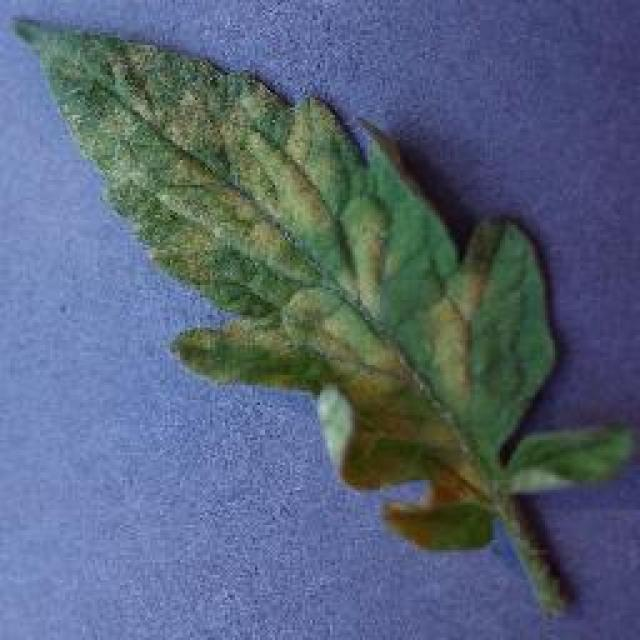Tomato___Leaf_Mold: (15, 20, 630, 608)
